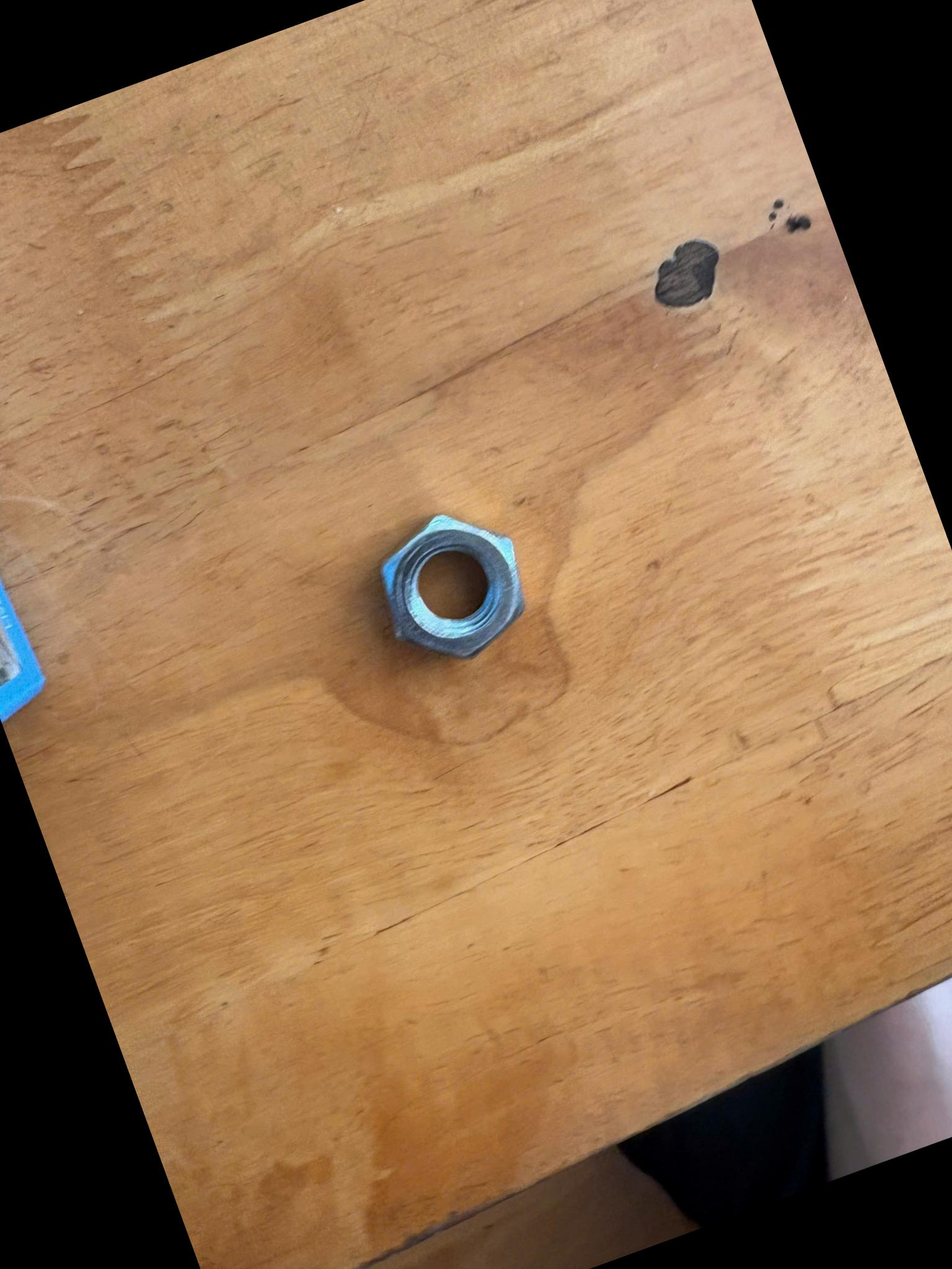nut: (339, 456, 576, 700)
